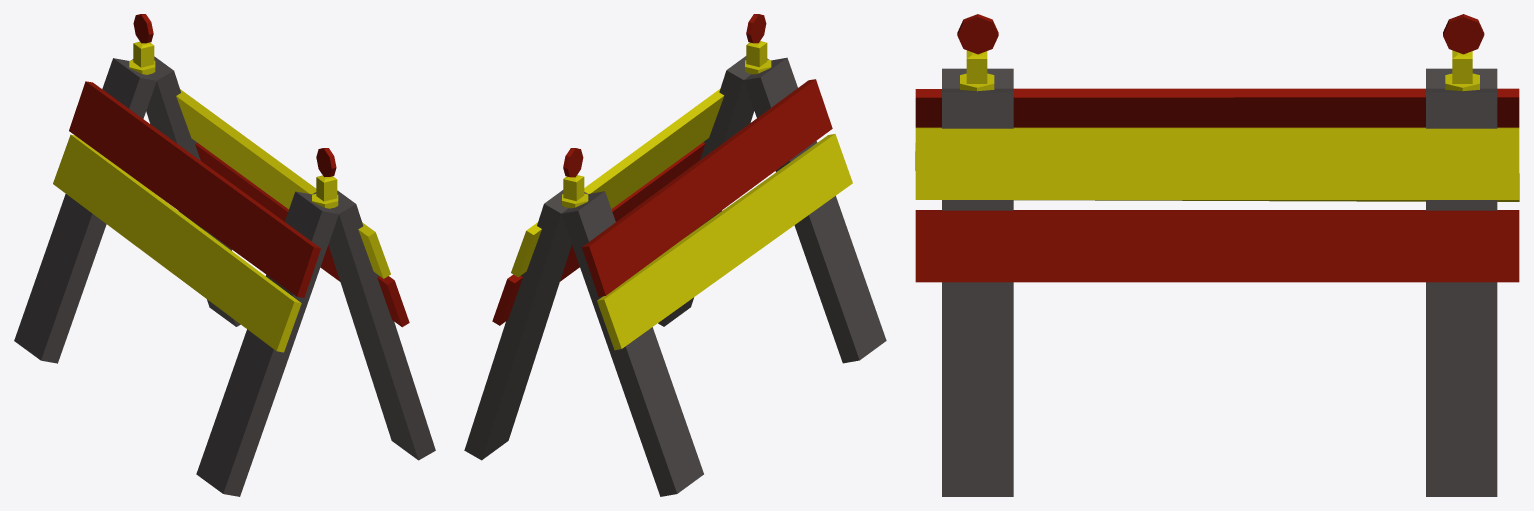
The model's file is Blockage_2.fbx.
3 renders of one model, left to right at view 1: azimuth 30°, elevation 25°; view 2: azimuth 150°, elevation 25°; view 3: azimuth 270°, elevation 25°, orthographic. The views are drawn at different scales.
Visible parts, largest first — view 1: Blockage_2; view 2: Blockage_2; view 3: Blockage_2.
Boxes of the visible parts, bbox=[...] form: Blockage_2: bbox=[14, 14, 435, 496]; Blockage_2: bbox=[464, 14, 886, 496]; Blockage_2: bbox=[915, 14, 1519, 496].
Bounding box in the file's own units: 4.57 × 6.59 × 8.46.
